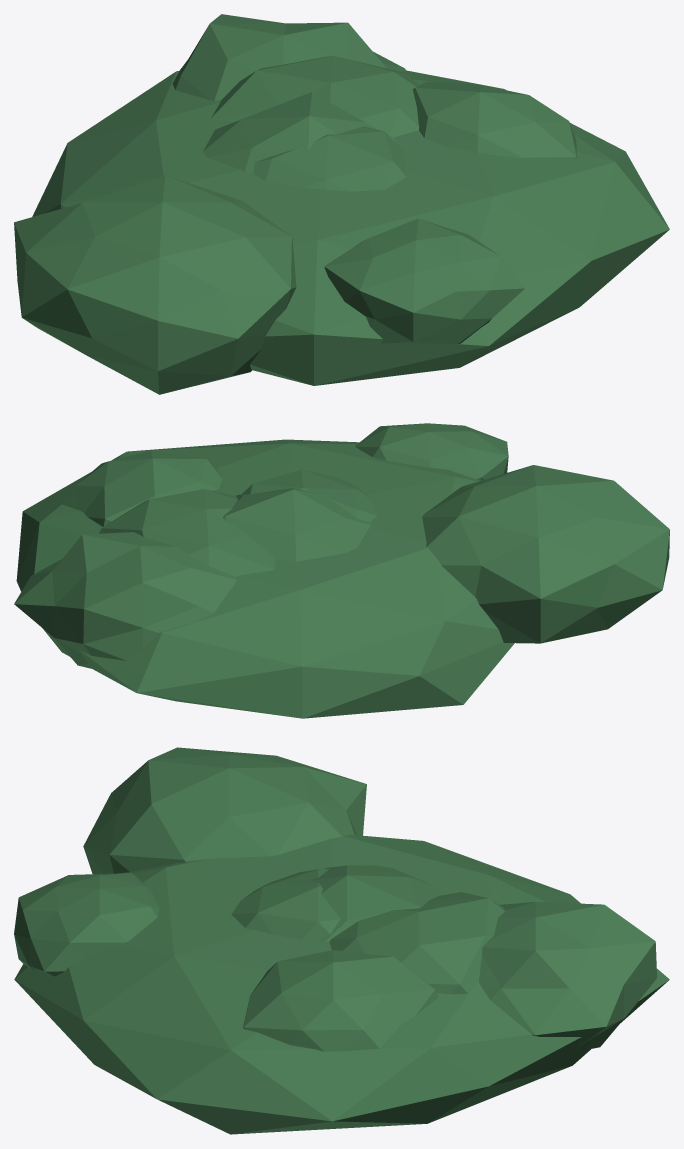
File: deco_moss_dark.obj
3 views of the same model, one above another, from view 1: azimuth 30°, elevation 25°; view 2: azimuth 150°, elevation 25°; view 3: azimuth 270°, elevation 25° (orthographic). The views are drawn at different scales.
Visible parts, largest first — view 1: deco_moss_dark; view 2: deco_moss_dark; view 3: deco_moss_dark.
Part boxes in pixels (x1,y1,x2,y2): deco_moss_dark: (14,14,669,394); deco_moss_dark: (14,423,669,718); deco_moss_dark: (14,747,669,1134).
Bounding box in the file's own units: 0.0821 × 0.0234 × 0.0737.
1 material, 1 textured.
